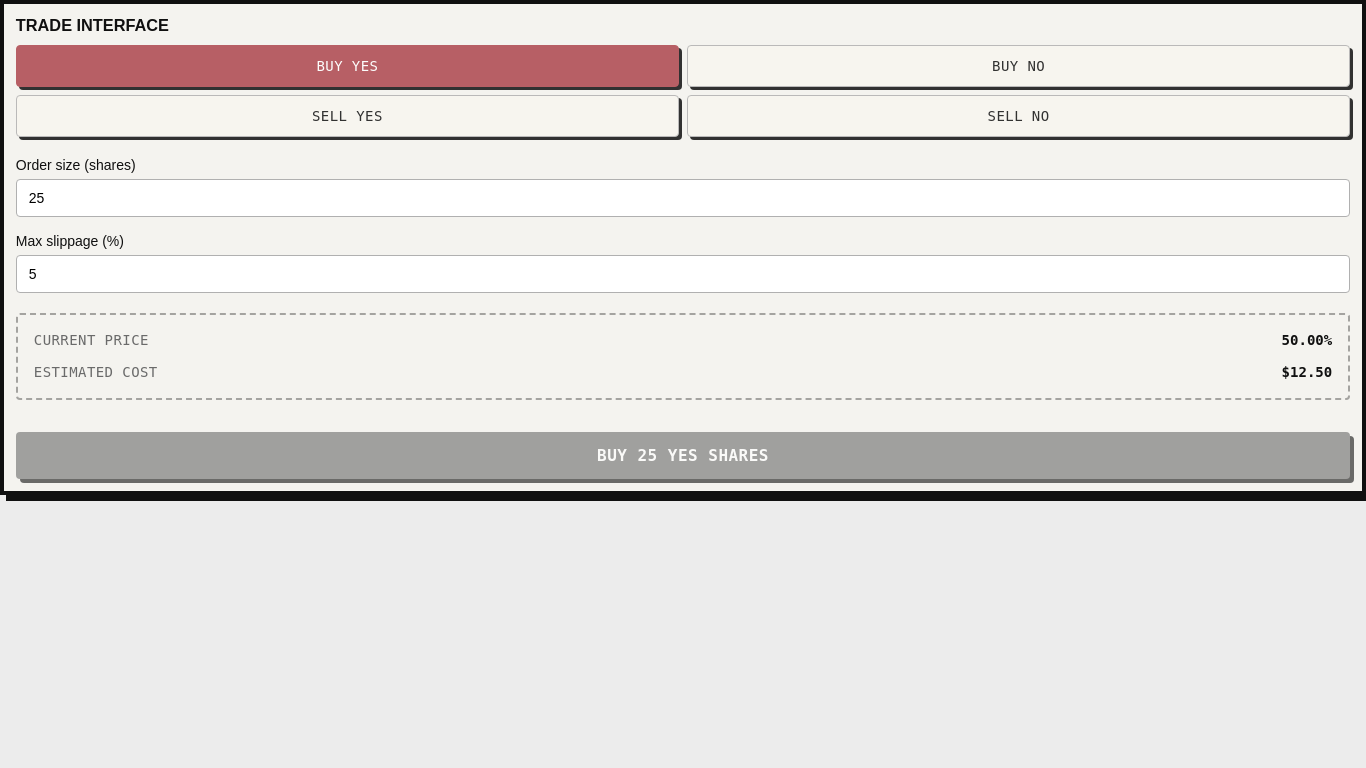
Test: TradeInterface › handles execute success path and resets order size
Replace the text in the number field labelled "Order size (shares)" with "30": (683, 198) [16,179,1350,217]
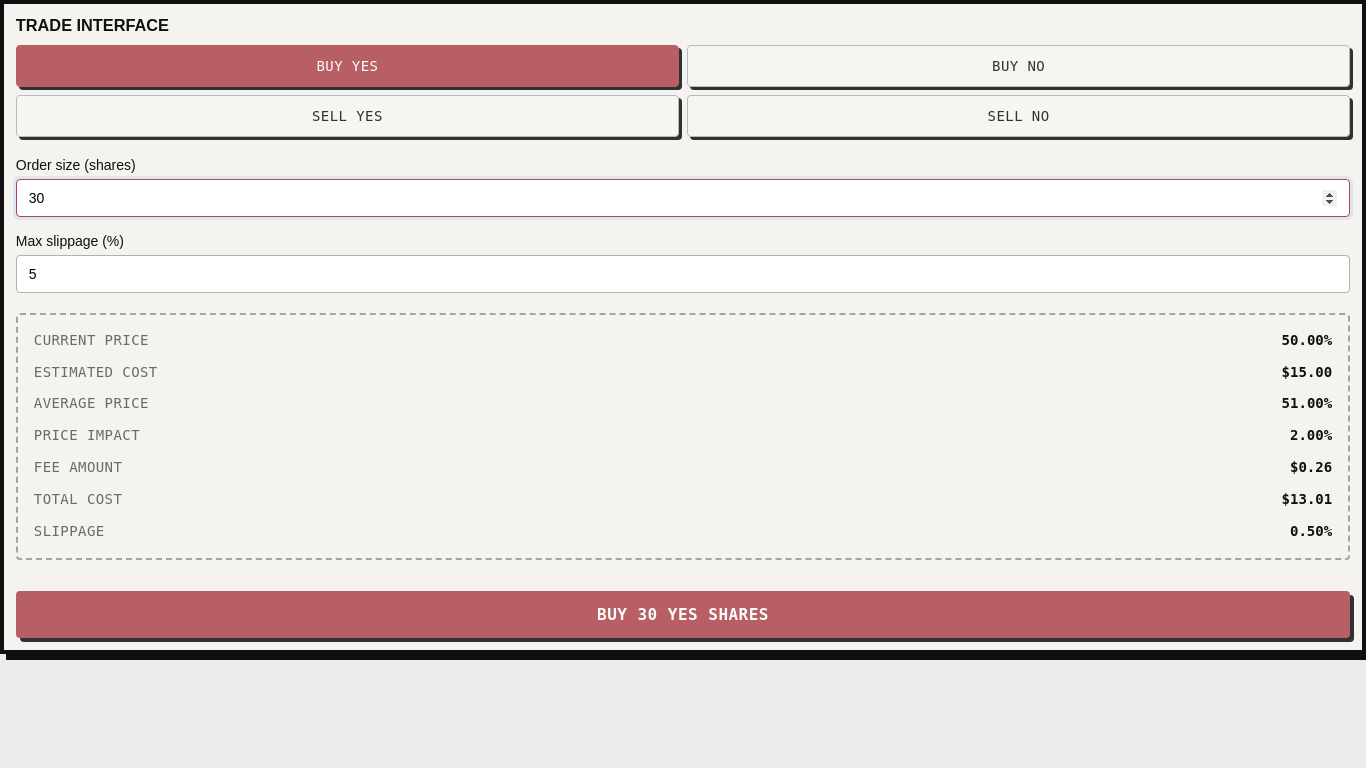
Now the button "Buy 30 YES shares" is enabled
Click the button "Buy 30 YES shares": (683, 615) [16,591,1350,638]
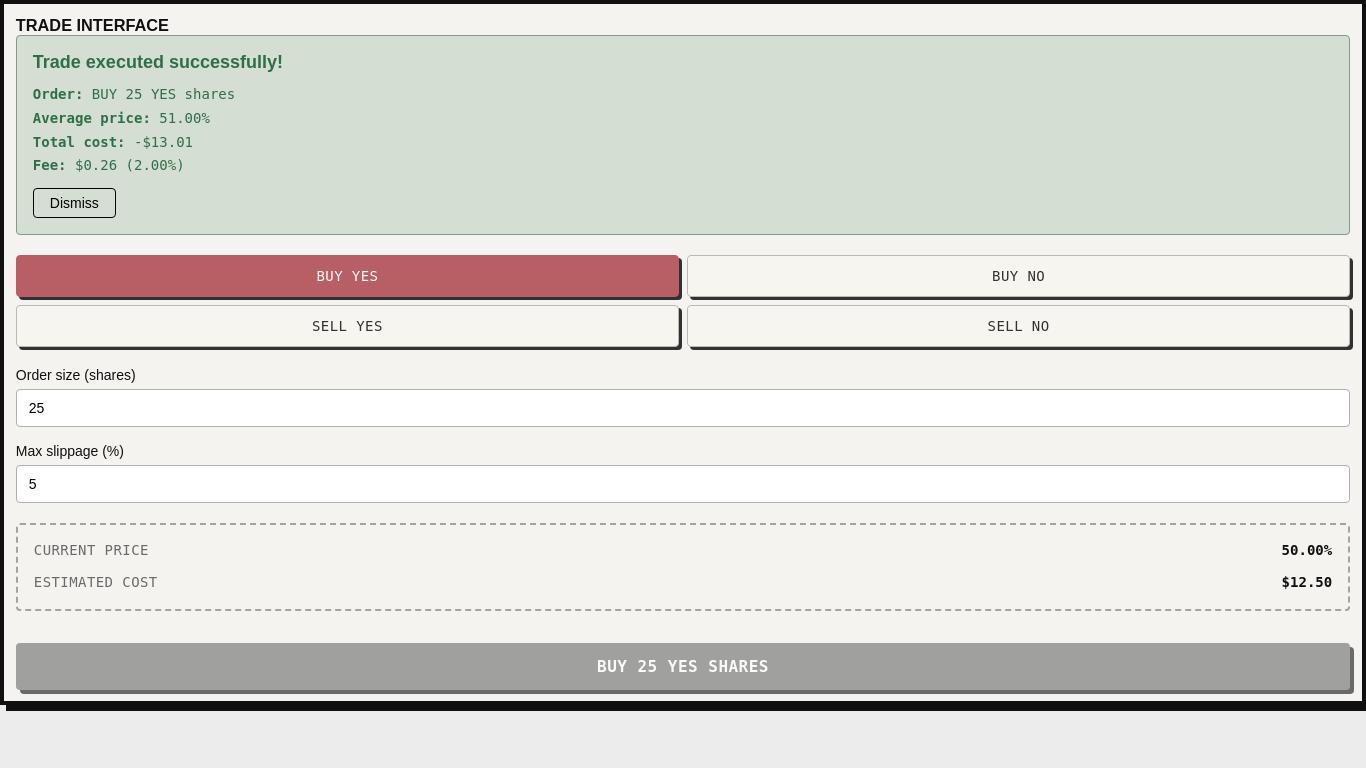
Now the heading "Trade executed successfully!" is shown, box [33,52,283,72]
Now the number field labelled "Order size (shares)" holds "25", box [16,389,1350,427]
